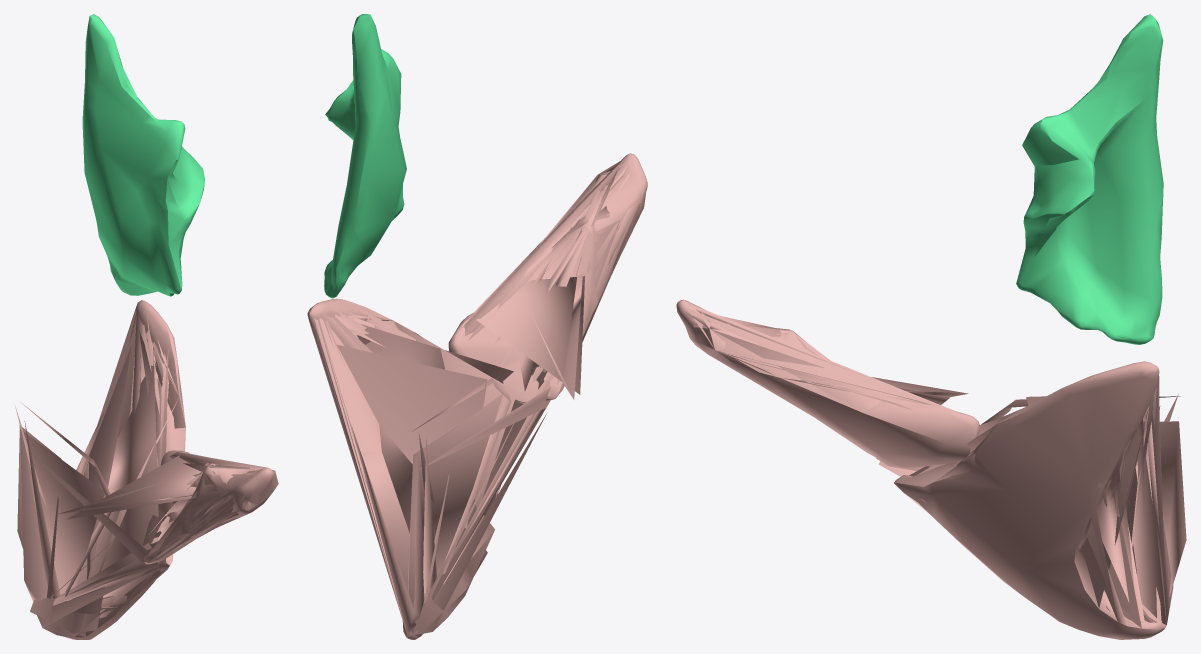
The model's file is organ-nose.glb.
3 views of the same model, side by side, from view 1: azimuth 30°, elevation 25°; view 2: azimuth 150°, elevation 25°; view 3: azimuth 270°, elevation 25° (orthographic). The views are drawn at different scales.
Visible parts, largest first — view 1: Nasal_Cartilages, Nasal_Concha, Nasal_Bones; view 2: Nasal_Cartilages, Nasal_Bones, Nasal_Concha; view 3: Nasal_Cartilages, Nasal_Concha, Nasal_Bones.
Part boxes in pixels (box(x1,y1,x2,y2)): Nasal_Cartilages: box(15, 300, 185, 639); Nasal_Concha: box(82, 14, 204, 296); Nasal_Bones: box(58, 450, 278, 564); Nasal_Cartilages: box(307, 298, 550, 639); Nasal_Bones: box(448, 153, 647, 403); Nasal_Concha: box(324, 14, 406, 298); Nasal_Cartilages: box(876, 361, 1186, 639); Nasal_Concha: box(1016, 14, 1163, 344); Nasal_Bones: box(676, 299, 979, 468).
Size of the model in its own units: 0.1684 by 0.5 by 0.3572.
